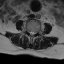CCS_stenosis: (31, 29, 32, 37)
LFS_normal: (34, 29, 37, 35)
LLS_normal: (32, 30, 34, 36)
RFS_normal: (27, 27, 29, 35)
RLS_normal: (29, 29, 31, 36)
